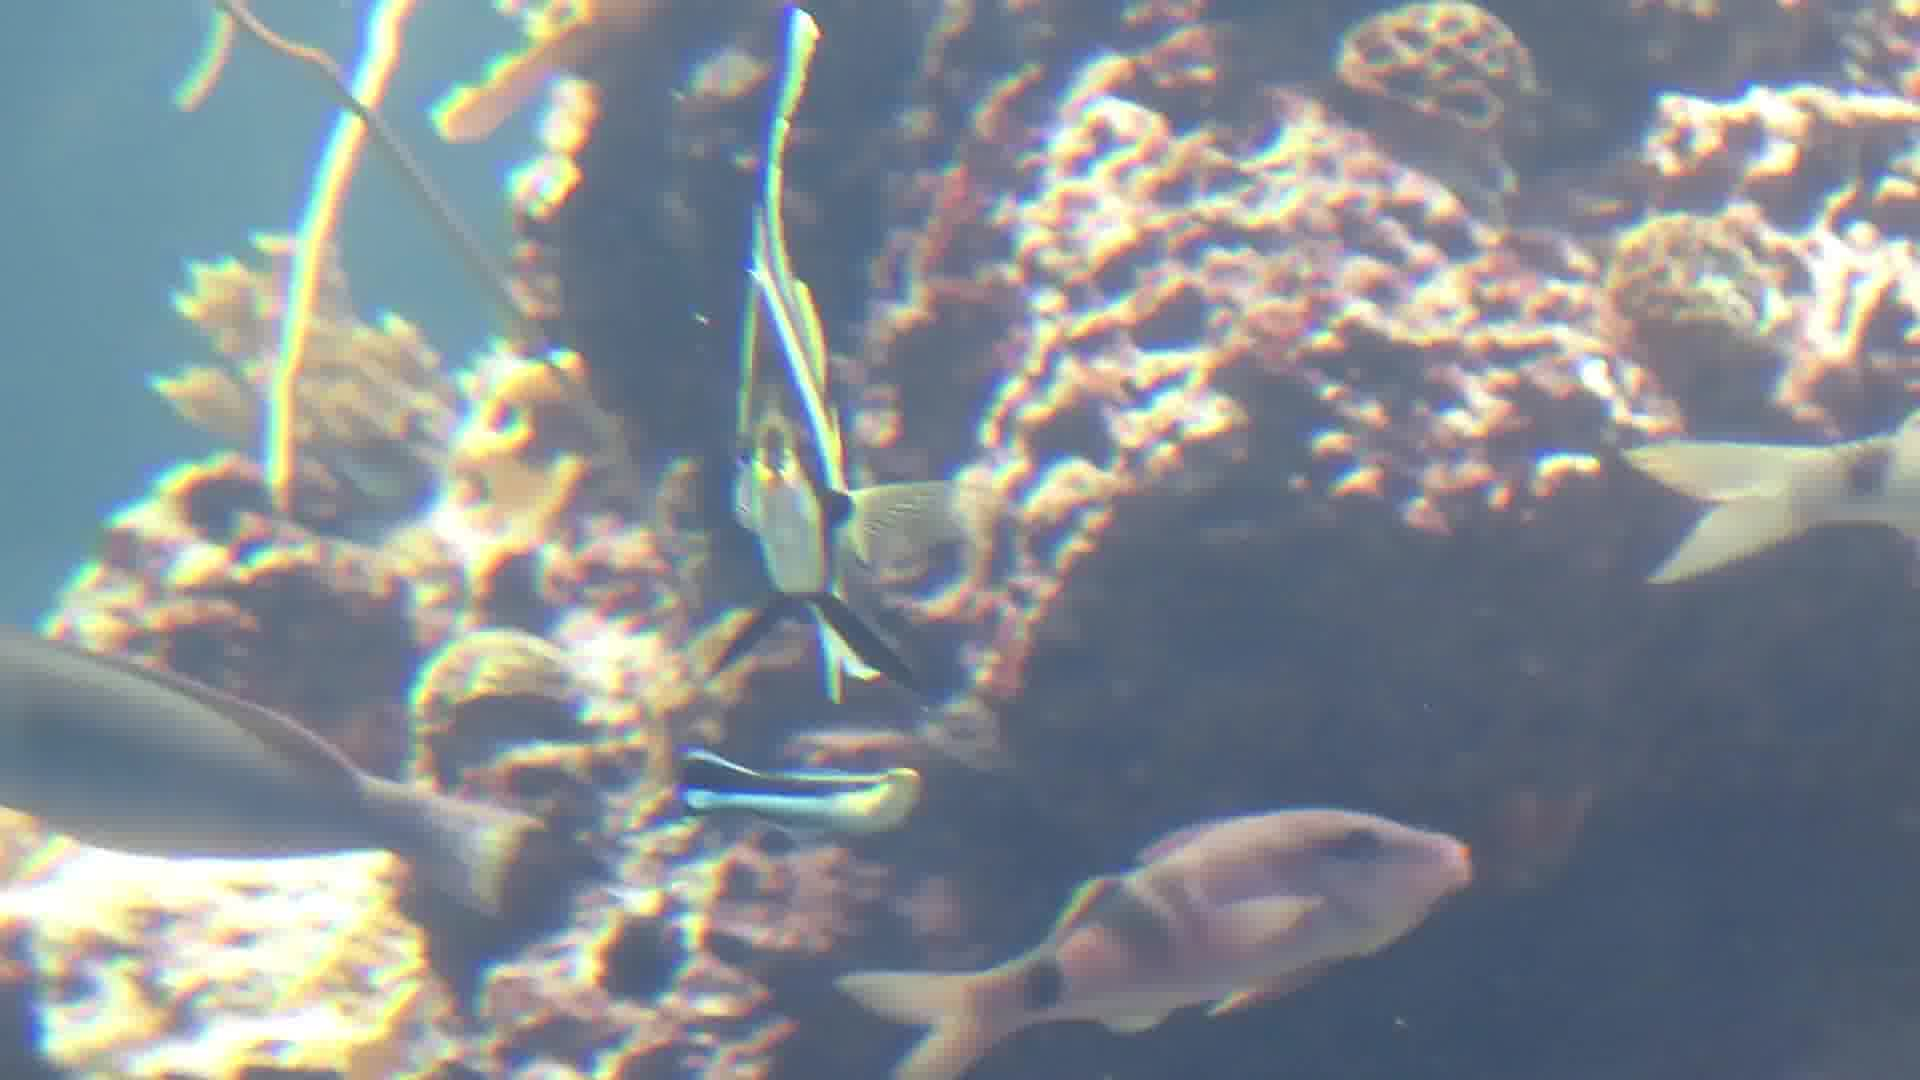Heniochus chrysostomus: (587, 11, 1007, 708)
